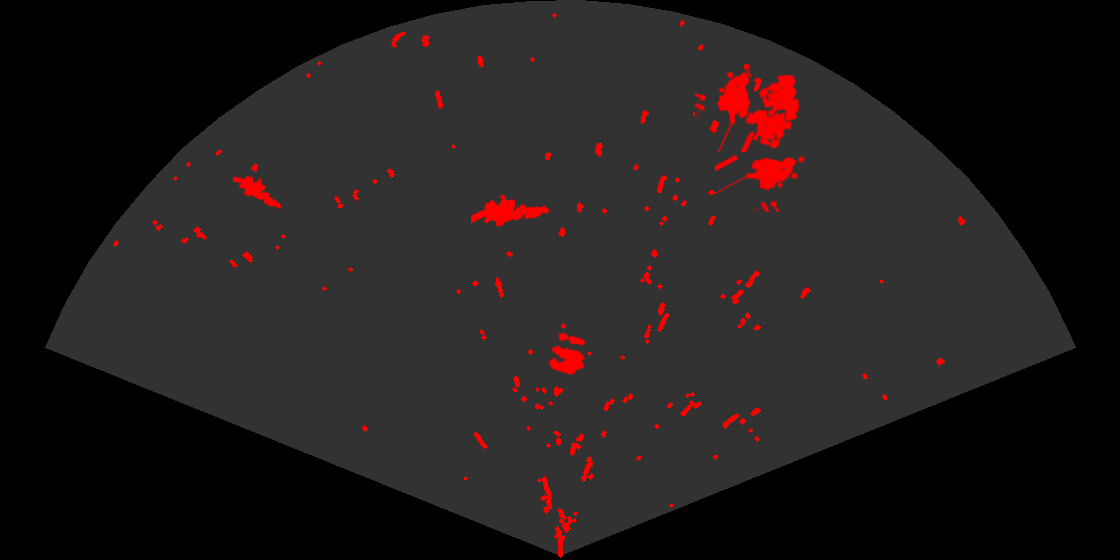ball: (547, 331, 587, 377)
cage: (715, 108, 807, 212), (695, 62, 801, 152)
frogman: (471, 193, 551, 228), (233, 174, 284, 210)
